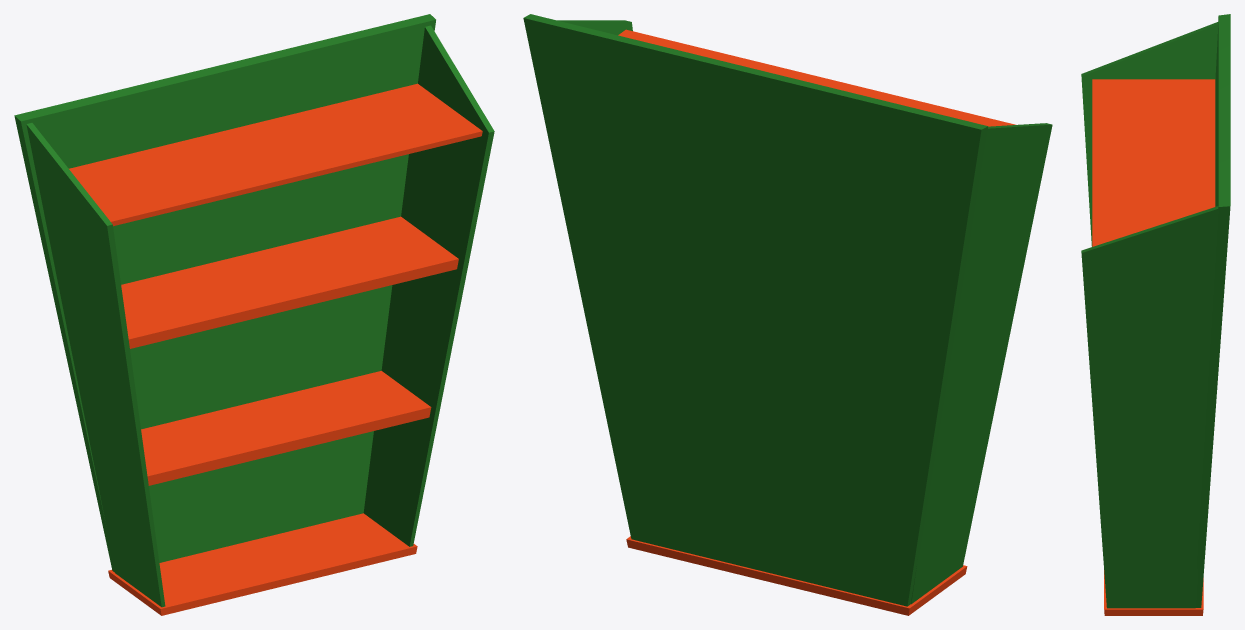
File: House_KidsRoom_Shelves.FBX
3 views of the same model, side by side, from view 1: azimuth 30°, elevation 25°; view 2: azimuth 150°, elevation 25°; view 3: azimuth 270°, elevation 25° (orthographic). The views are drawn at different scales.
Visible parts, largest first — view 1: House_KidsRoom_Shelves_back, House_KidsRoom_Shelves_sideRight, House_KidsRoom_Shelves_shelf1, House_KidsRoom_Shelves_sideLeft, House_KidsRoom_Shelves_shelf2, House_KidsRoom_Shelves_shelf3, House_KidsRoom_Shelves_shelf4; view 2: House_KidsRoom_Shelves_back, House_KidsRoom_Shelves_sideLeft, House_KidsRoom_Shelves_shelf4, House_KidsRoom_Shelves_shelf1; view 3: House_KidsRoom_Shelves_sideRight, House_KidsRoom_Shelves_shelf1, House_KidsRoom_Shelves_back, House_KidsRoom_Shelves_sideLeft, House_KidsRoom_Shelves_shelf4.
Boxes of the visible parts, x1,y1,x2,y2 form: House_KidsRoom_Shelves_back: (14,14,435,571); House_KidsRoom_Shelves_sideRight: (363,25,494,546); House_KidsRoom_Shelves_shelf1: (69,83,482,226); House_KidsRoom_Shelves_sideLeft: (26,123,165,607); House_KidsRoom_Shelves_shelf2: (121,216,458,348); House_KidsRoom_Shelves_shelf3: (141,371,431,485); House_KidsRoom_Shelves_shelf4: (108,513,417,615); House_KidsRoom_Shelves_back: (523,14,987,606); House_KidsRoom_Shelves_sideLeft: (911,123,1052,604); House_KidsRoom_Shelves_shelf4: (626,536,967,615); House_KidsRoom_Shelves_shelf1: (618,29,1015,126); House_KidsRoom_Shelves_sideRight: (1081,206,1218,608); House_KidsRoom_Shelves_shelf1: (1092,79,1215,246); House_KidsRoom_Shelves_back: (1195,14,1230,607); House_KidsRoom_Shelves_sideLeft: (1081,22,1218,246); House_KidsRoom_Shelves_shelf4: (1104,570,1203,615).
Size of the model in its own units: 180 by 195 by 58.81.
